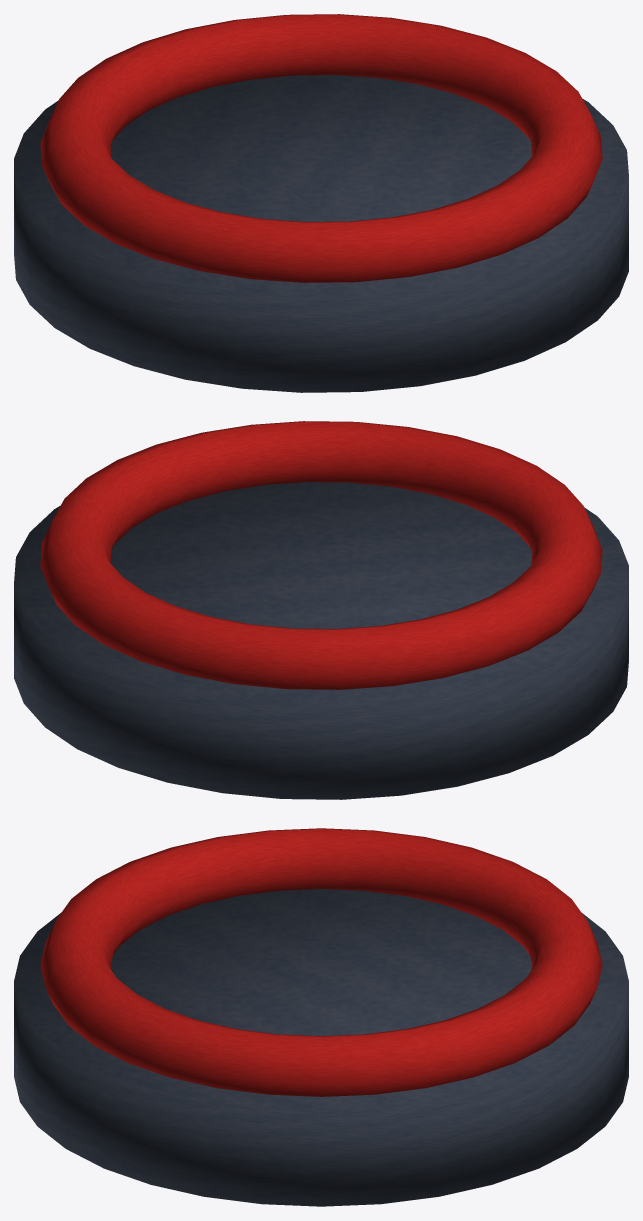
Rendered from ErrorBadge.obj.
3 renders of one model, top to bottom at view 1: azimuth 30°, elevation 25°; view 2: azimuth 150°, elevation 25°; view 3: azimuth 270°, elevation 25°, orthographic.
Parts seen in each view (by area): view 1: Badge.002, Emissive_Border.002; view 2: Badge.002, Emissive_Border.002; view 3: Badge.002, Emissive_Border.002.
Part boxes in pixels (x1,y1,x2,y2): Badge.002: [14, 75, 628, 392]; Emissive_Border.002: [40, 14, 602, 282]; Badge.002: [14, 482, 628, 799]; Emissive_Border.002: [40, 421, 602, 689]; Badge.002: [14, 889, 628, 1206]; Emissive_Border.002: [40, 828, 602, 1096].
Bounding box in the file's own units: 0.07 × 0.018 × 0.07.
